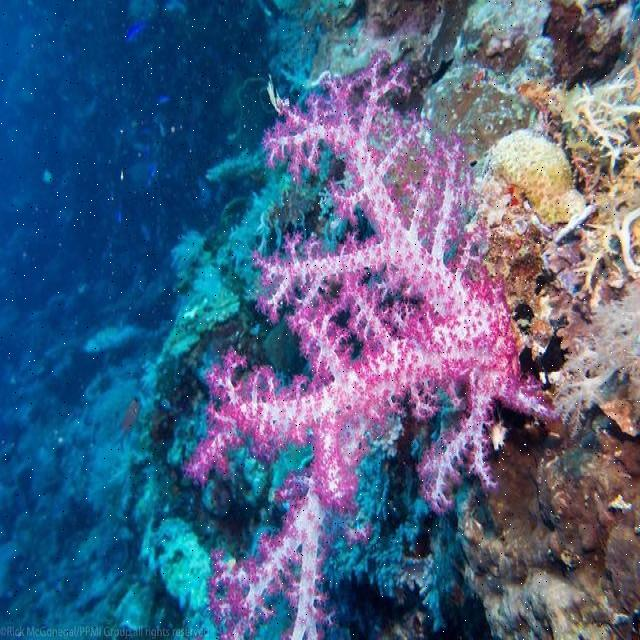reefs: (182, 50, 563, 639), (484, 41, 639, 437)
sea-floor: (461, 401, 639, 639)
